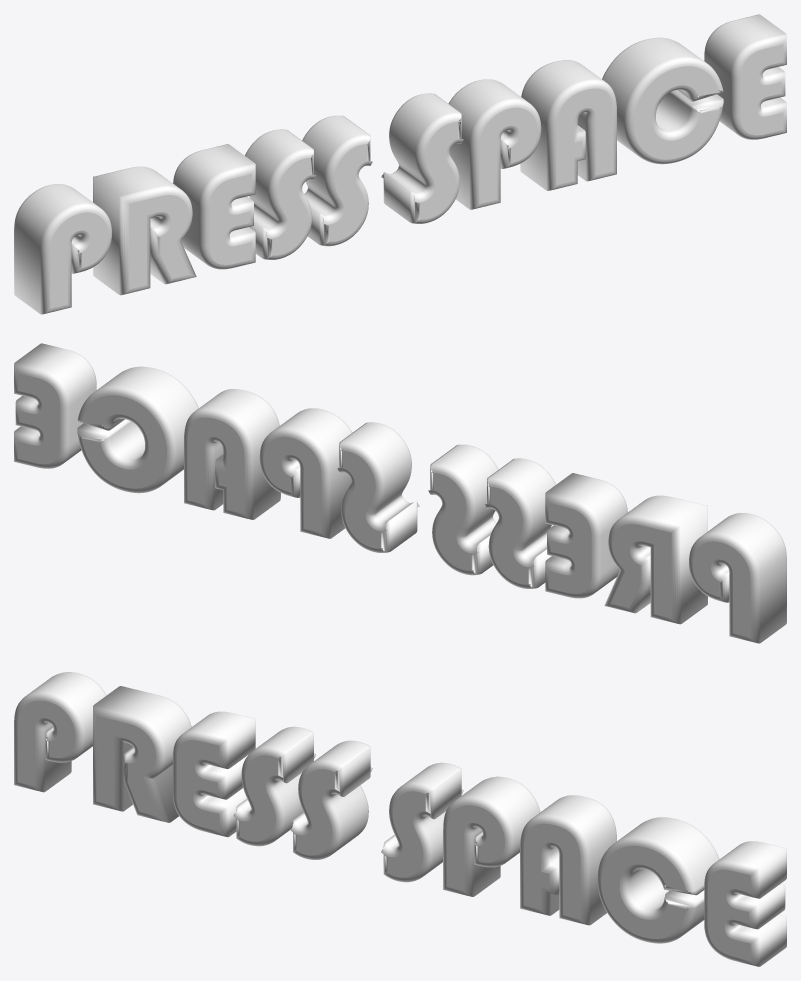
File: press.obj
3 renders of one model, top to bottom at view 1: azimuth 30°, elevation 25°; view 2: azimuth 150°, elevation 25°; view 3: azimuth 330°, elevation 25°, orthographic.
Visible parts, largest first — view 1: テキスト; view 2: テキスト; view 3: テキスト.
Part boxes in pixels (left/top/right/bottom): テキスト: left=14, top=14, right=786, bottom=314; テキスト: left=14, top=343, right=786, bottom=643; テキスト: left=14, top=672, right=786, bottom=966.
Bounding box in the file's own units: 4.74 × 0.629 × 0.36.
1 material, 1 textured.
